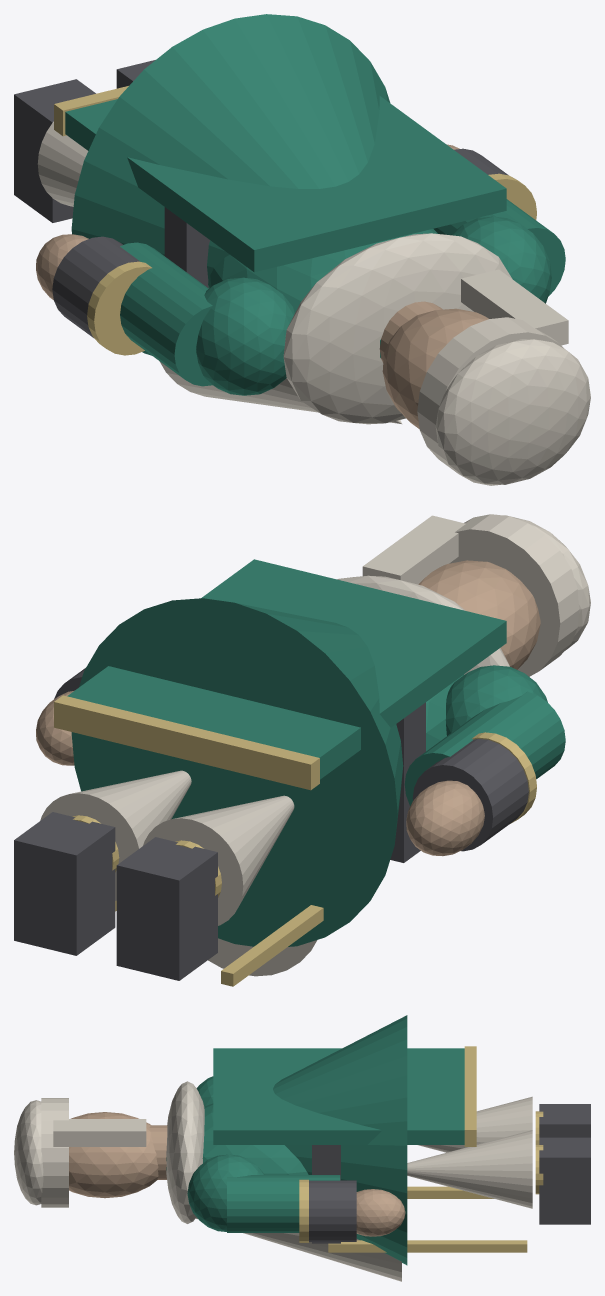
File: 1muslim-emerald-guardian-3d.glb
The picture shows the model from 3 angles, top to bottom: view 1: azimuth 30°, elevation 25°; view 2: azimuth 150°, elevation 25°; view 3: azimuth 270°, elevation 25°; orthographic projection. The views are drawn at different scales.
Parts seen in each view (by area): view 1: emerald_outer_robe, flowing_cape, scarf, turban_top, shoulder_L, sleeve_L, smooth_featureless_head, boot_L, turban_band, shoulder_R, bracer_L, turban_tail (+10 smaller); view 2: emerald_outer_robe, flowing_cape, boot_R, boot_L, cape_gold_hem, turban_band, trouser_L, smooth_featureless_head, trouser_R, sleeve_L, bracer_L, hand_L (+10 smaller); view 3: flowing_cape, emerald_outer_robe, trouser_R, smooth_featureless_head, boot_R, sleeve_R, scarf, shoulder_R, bracer_R, turban_band, turban_tail, turban_top (+12 smaller).
Part boxes in pixels (x1,y1,x2,y2): emerald_outer_robe: [71, 14, 390, 355]; flowing_cape: [65, 96, 506, 272]; scarf: [283, 233, 512, 424]; turban_top: [435, 339, 590, 484]; shoulder_L: [196, 277, 295, 395]; sleeve_L: [120, 242, 212, 386]; smooth_featureless_head: [382, 308, 488, 428]; boot_L: [14, 79, 95, 222]; turban_band: [417, 317, 563, 485]; shoulder_R: [451, 216, 551, 303]; bracer_L: [52, 236, 140, 337]; turban_tail: [461, 269, 568, 345]; emerald_outer_robe: [71, 598, 403, 946]; flowing_cape: [67, 559, 506, 779]; boot_R: [14, 812, 115, 955]; boot_L: [116, 837, 217, 980]; cape_gold_hem: [54, 695, 319, 790]; turban_band: [449, 514, 579, 676]; trouser_L: [143, 795, 294, 925]; smooth_featureless_head: [418, 560, 540, 669]; trouser_R: [40, 770, 191, 900]; sleeve_L: [404, 691, 565, 805]; bracer_L: [412, 738, 528, 851]; hand_L: [406, 780, 484, 856]; flowing_cape: [213, 1048, 464, 1144]; emerald_outer_robe: [273, 1015, 407, 1265]; trouser_R: [407, 1130, 532, 1208]; smooth_featureless_head: [69, 1112, 158, 1198]; boot_R: [539, 1137, 590, 1224]; sleeve_R: [227, 1175, 340, 1232]; scarf: [166, 1081, 204, 1223]; shoulder_R: [187, 1154, 264, 1231]; bracer_R: [309, 1180, 356, 1241]; turban_band: [41, 1098, 68, 1207]; turban_tail: [53, 1119, 146, 1146]; turban_top: [14, 1100, 43, 1205].
Bounding box in the file's own units: 1.98 × 1.6 × 3.36.
